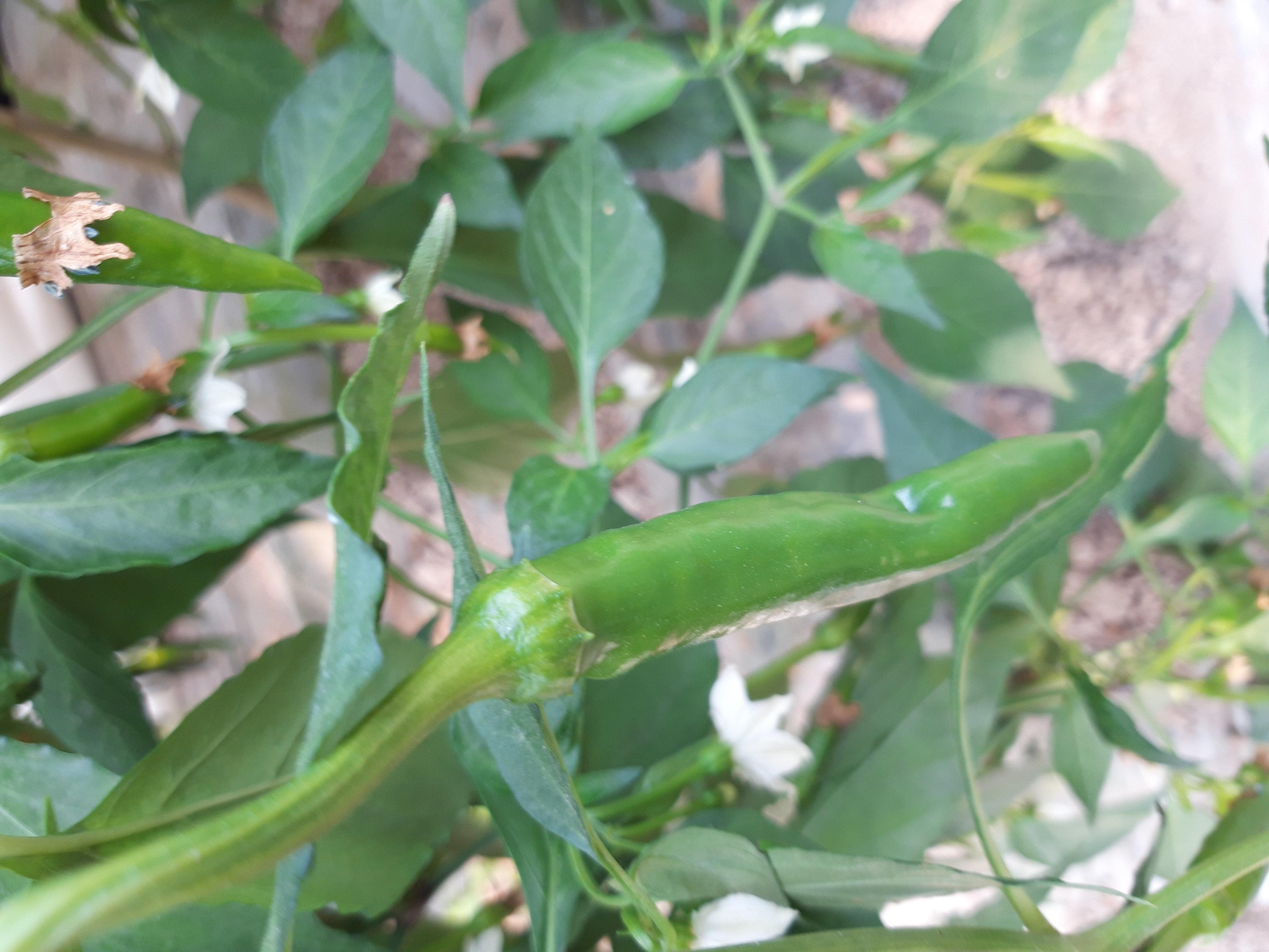Buah Cabai Sehat: (473, 432, 1107, 692)
